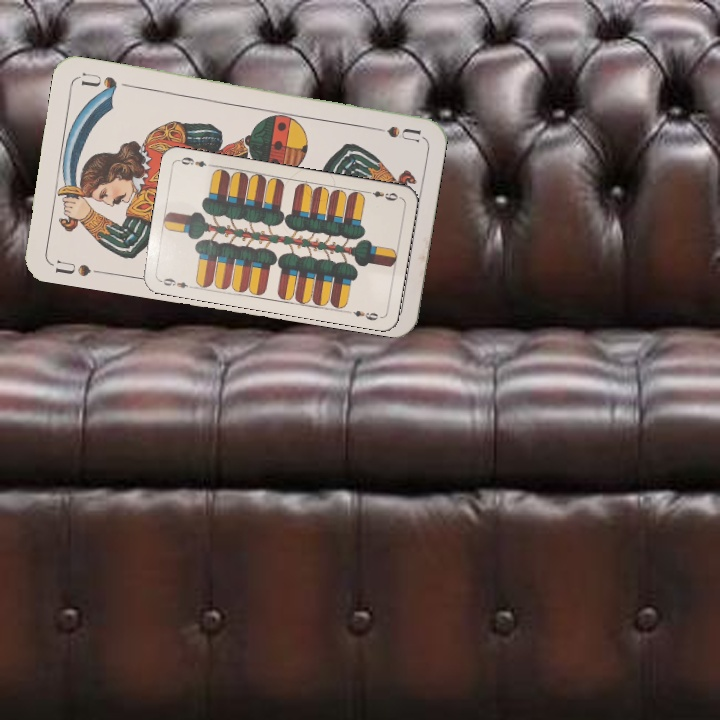E9: (156, 274, 196, 291), (362, 187, 400, 203)
SU: (363, 121, 422, 145), (51, 256, 93, 279)
